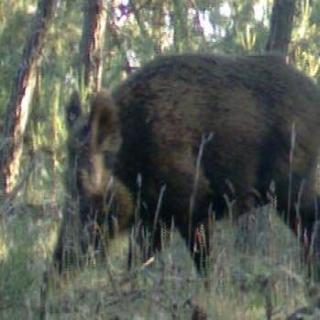Pig: (56, 38, 320, 280)
